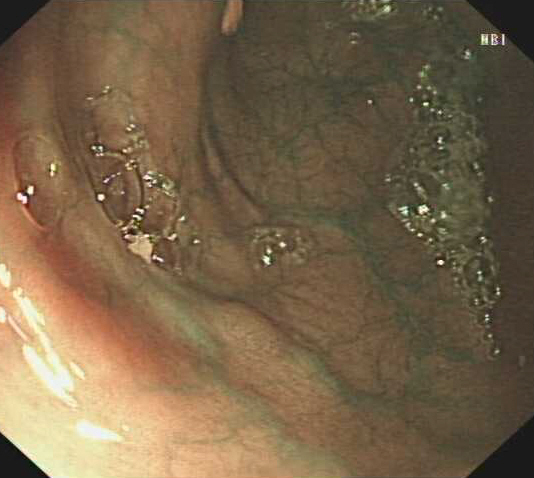adenoma: (203, 295, 282, 358)
